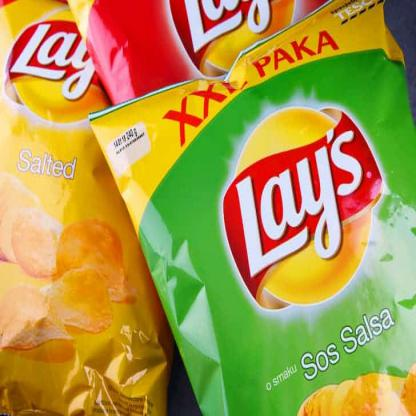potatochip: (53, 0, 415, 391), (75, 0, 416, 415), (0, 0, 185, 415)
